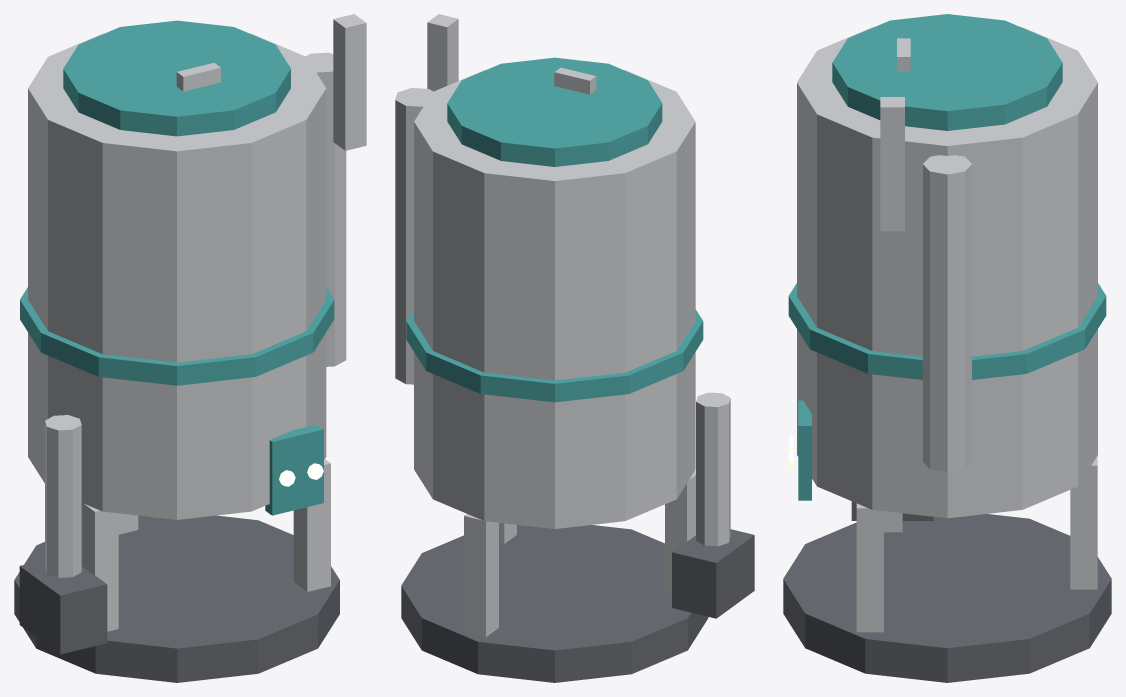
The model's file is chocolate-and-confectionery-factory-clean-in-place-tan-781b5193__36799.glb.
3 renders of one model, left to right at view 1: azimuth 30°, elevation 25°; view 2: azimuth 150°, elevation 25°; view 3: azimuth 270°, elevation 25°, orthographic. The views are drawn at different scales.
Visible parts, largest first — view 1: clean-in-place-tank, lid-cip/teal, lid-cip/steel; view 2: clean-in-place-tank, lid-cip/teal, lid-cip/steel; view 3: clean-in-place-tank, lid-cip/teal.
Part boxes in pixels (x1,y1,x2,y2): clean-in-place-tank: (14,14,366,682); lid-cip/teal: (63,20,290,136); lid-cip/steel: (176,63,220,91); clean-in-place-tank: (395,14,754,682); lid-cip/teal: (447,57,662,166); lid-cip/steel: (554,67,596,94); clean-in-place-tank: (783,27,1111,682); lid-cip/teal: (832,14,1062,130).
Bounding box in the file's own units: 1.41 × 2.35 × 1.2.
